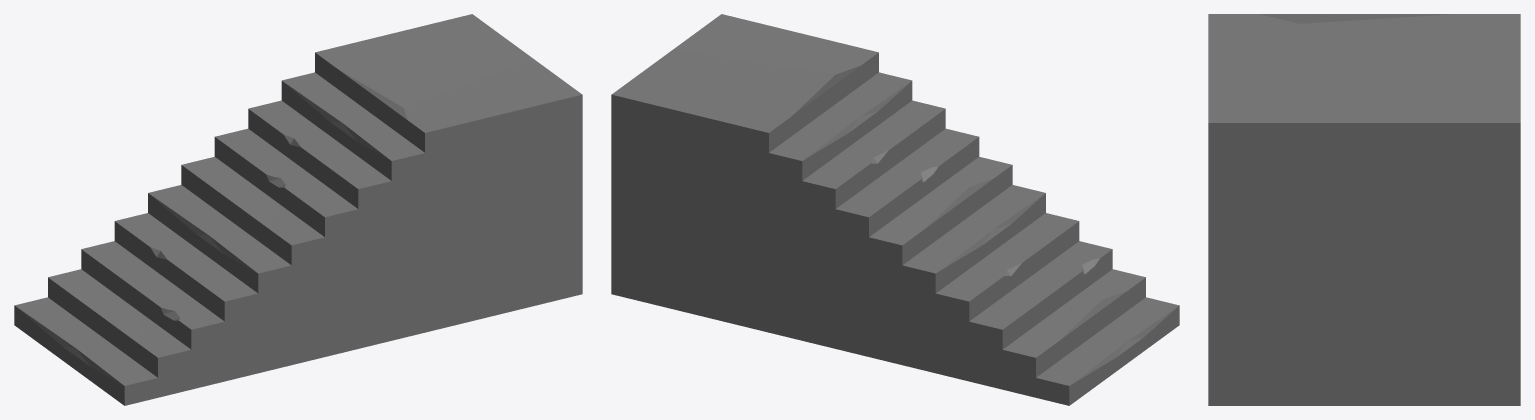
File: SM_Envr_Seawall_Steps.fbx
3 views of the same model, side by side, from view 1: azimuth 30°, elevation 25°; view 2: azimuth 150°, elevation 25°; view 3: azimuth 270°, elevation 25° (orthographic). The views are drawn at different scales.
Visible parts, largest first — view 1: SM_Envr_Seawall_Steps; view 2: SM_Envr_Seawall_Steps; view 3: SM_Envr_Seawall_Steps.
Boxes of the visible parts, left/top/right/bottom form: SM_Envr_Seawall_Steps: left=14, top=14, right=582, bottom=405; SM_Envr_Seawall_Steps: left=611, top=14, right=1179, bottom=405; SM_Envr_Seawall_Steps: left=1208, top=14, right=1520, bottom=405.
Bounding box in the file's own units: 1200 × 500 × 500.
